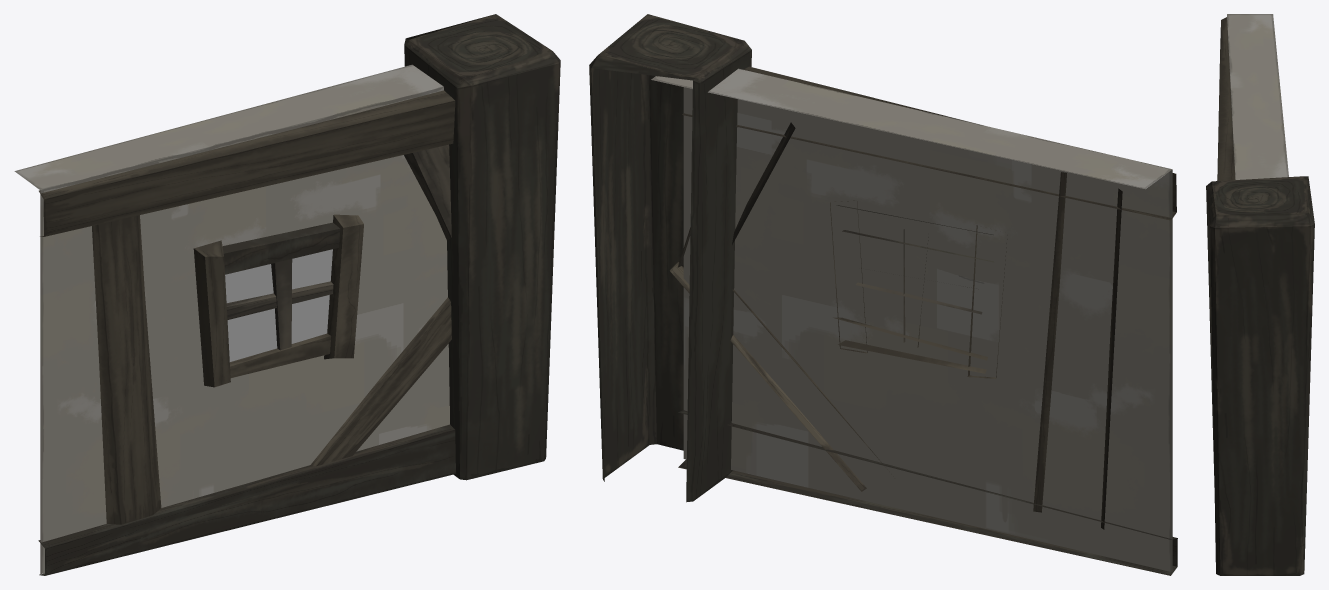
The model's file is cons_wall_outer_window.fbx.
3 renders of one model, left to right at view 1: azimuth 30°, elevation 25°; view 2: azimuth 150°, elevation 25°; view 3: azimuth 270°, elevation 25°, orthographic. The views are drawn at different scales.
Parts seen in each view (by area): view 1: cons_wall_window01; view 2: cons_wall_window01; view 3: cons_wall_window01.
Boxes of the visible parts, x1=… form: cons_wall_window01: x1=14, y1=14, x2=560, y2=575; cons_wall_window01: x1=589, y1=14, x2=1177, y2=575; cons_wall_window01: x1=1206, y1=14, x2=1314, y2=575.
Size of the model in its own units: 335 by 254 by 69.2.
